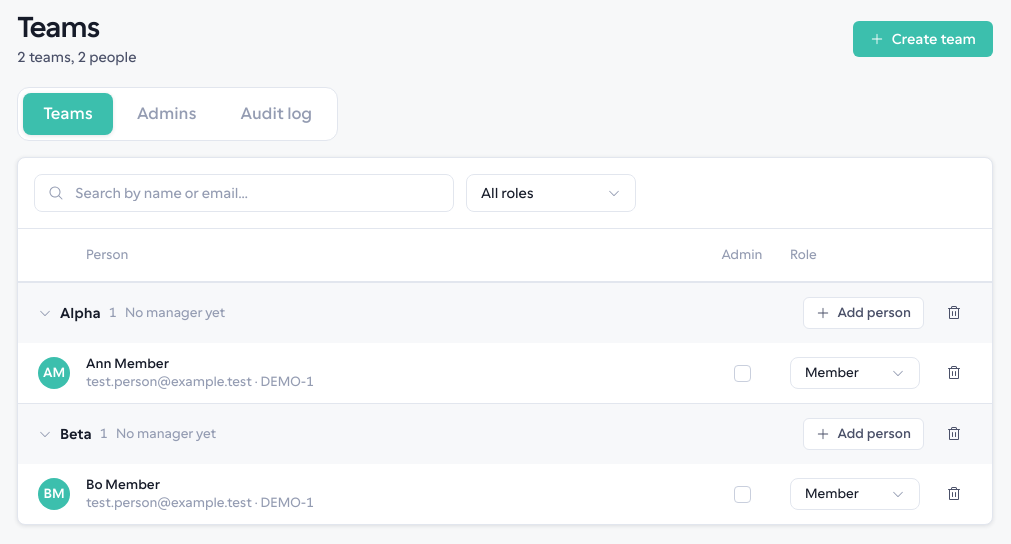
Test: TeamsView › filters by search, hides teams with no match, and says so when nobody matches
In the search field named "Search people": [244, 193] box top-left (34, 174), bottom-right (454, 212), type "bo"
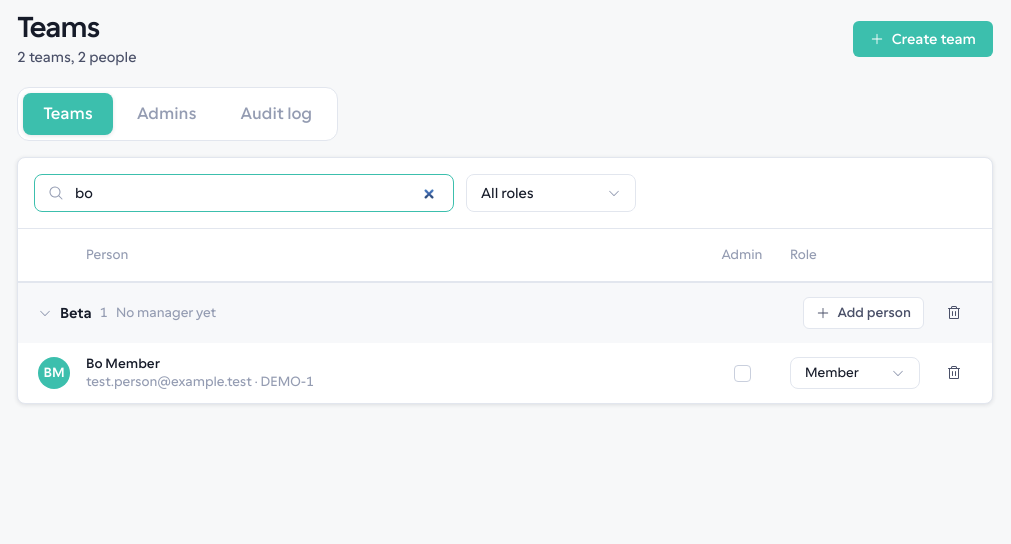
Expected: the element "Beta" is shown, top-left (18, 282), bottom-right (992, 403)
Now the button "Alpha" is gone
In the search field named "Search people": [244, 193] box top-left (34, 174), bottom-right (454, 212), type "zzz"
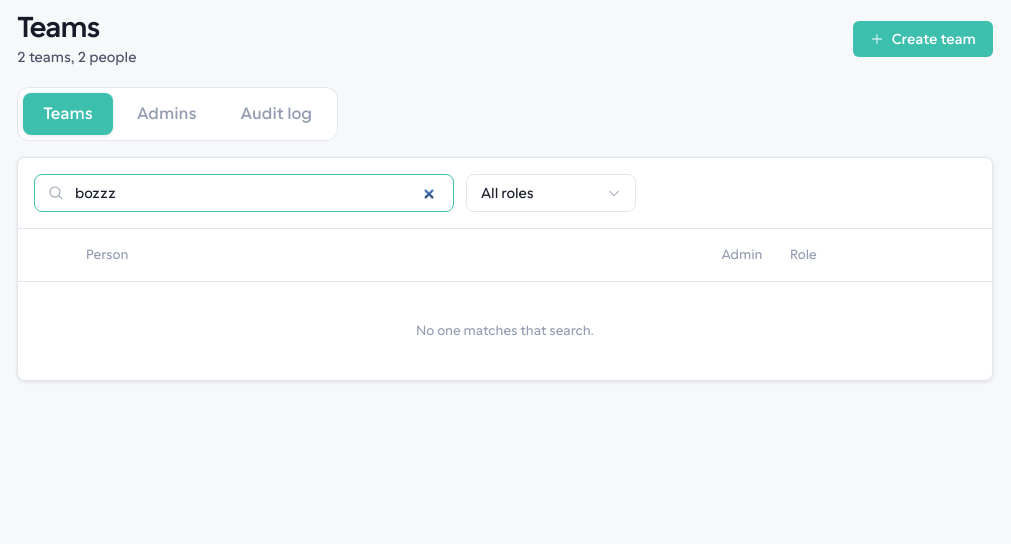
Now the text "No one matches that search." is shown, box top-left (416, 323), bottom-right (594, 338)
